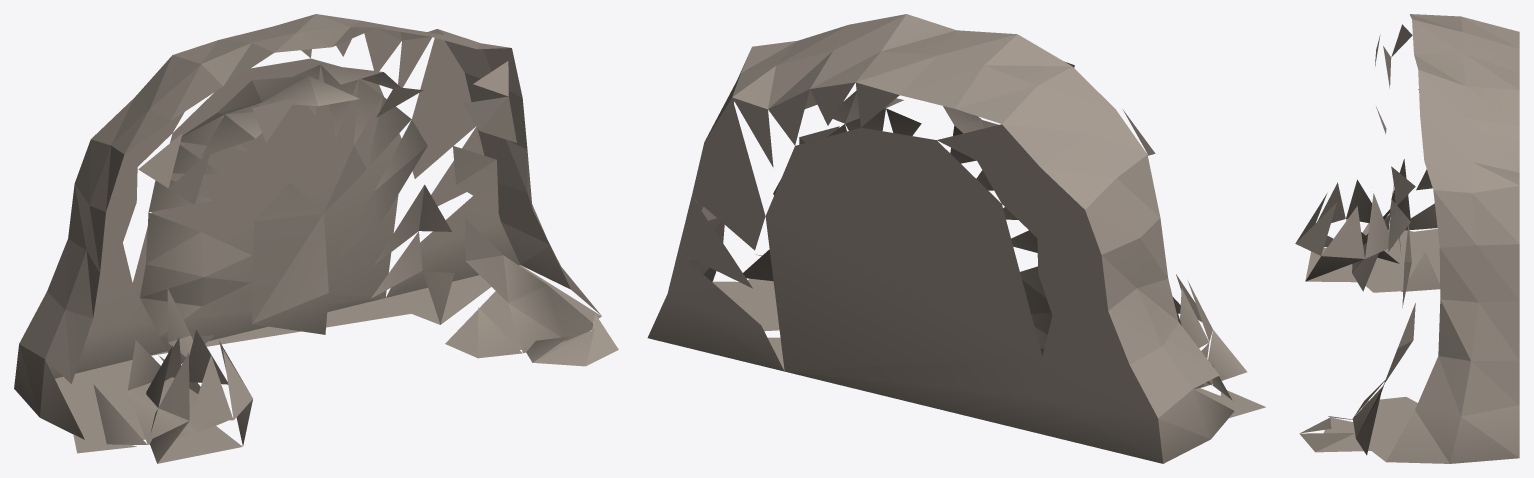
The model's file is arch.lod.glb.
The picture shows the model from 3 angles, left to right: view 1: azimuth 30°, elevation 25°; view 2: azimuth 150°, elevation 25°; view 3: azimuth 270°, elevation 25°; orthographic projection. The views are drawn at different scales.
Visible parts, largest first — view 1: arch; view 2: arch; view 3: arch.
Part boxes in pixels (left/top/right/bottom): arch: left=14, top=14, right=618, bottom=463; arch: left=647, top=14, right=1265, bottom=463; arch: left=1295, top=14, right=1519, bottom=463.
Bounding box in the file's own units: 27.58 × 16.14 × 10.86.
